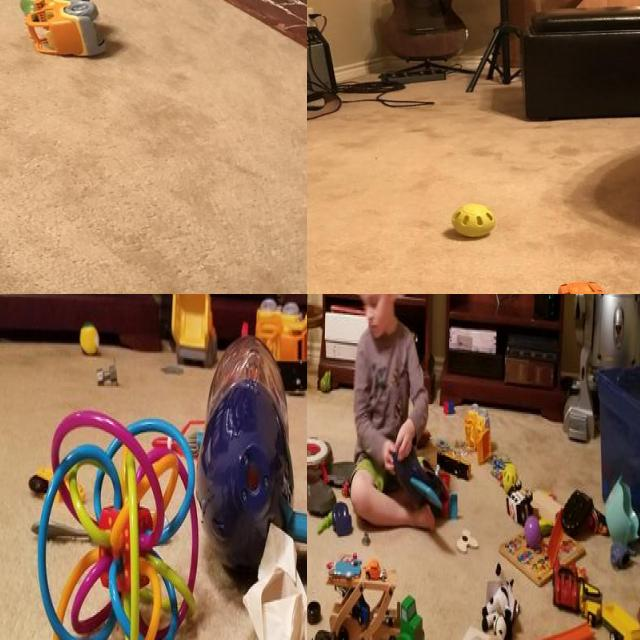toy: (42, 409, 207, 640), (203, 336, 296, 586), (17, 0, 113, 62), (252, 296, 307, 391), (579, 558, 640, 640), (170, 294, 219, 374), (478, 569, 515, 640), (30, 459, 85, 506), (29, 515, 100, 545), (281, 499, 307, 577), (553, 530, 576, 618), (447, 201, 498, 238), (466, 404, 495, 465), (510, 480, 538, 538), (515, 622, 597, 640), (326, 545, 364, 581), (441, 446, 470, 484), (496, 462, 521, 506), (362, 551, 390, 588), (553, 279, 620, 294), (81, 319, 101, 360), (94, 354, 118, 386), (333, 494, 351, 534), (443, 395, 458, 425), (320, 368, 333, 402), (318, 508, 333, 534)
